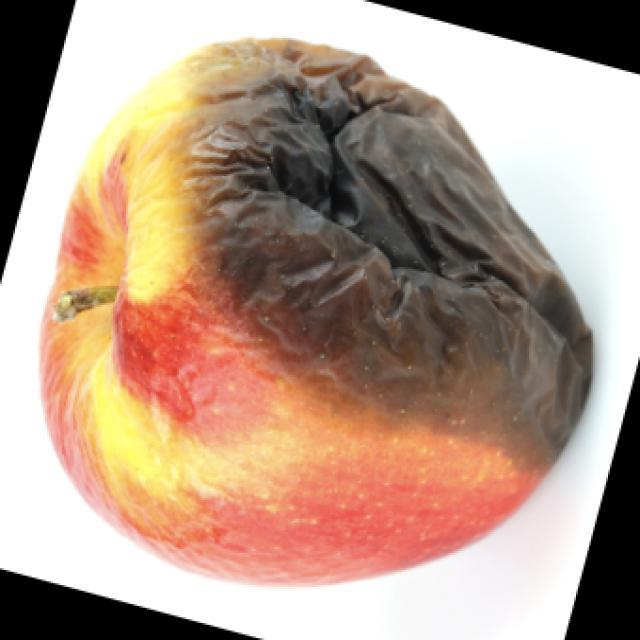Rotten: (35, 28, 593, 590)
